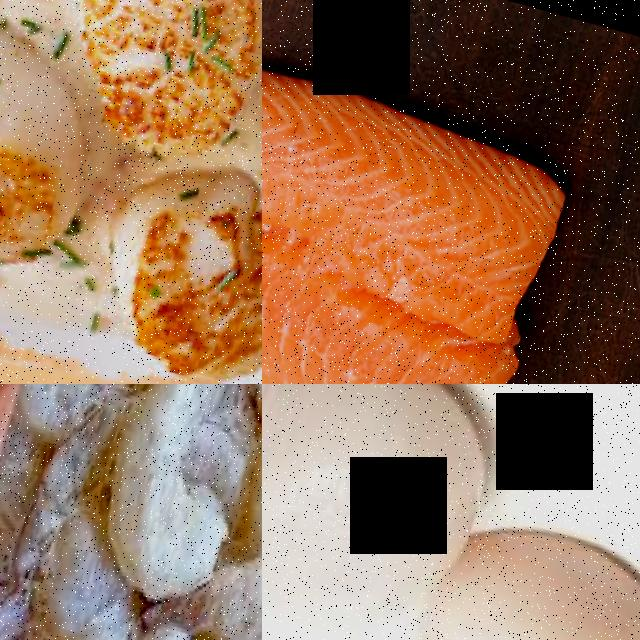salmon: (262, 26, 593, 384)
sea scallops: (262, 384, 521, 640), (64, 142, 262, 384), (380, 500, 640, 640), (0, 0, 107, 292), (43, 0, 262, 117)
shrimp: (68, 384, 262, 621)
